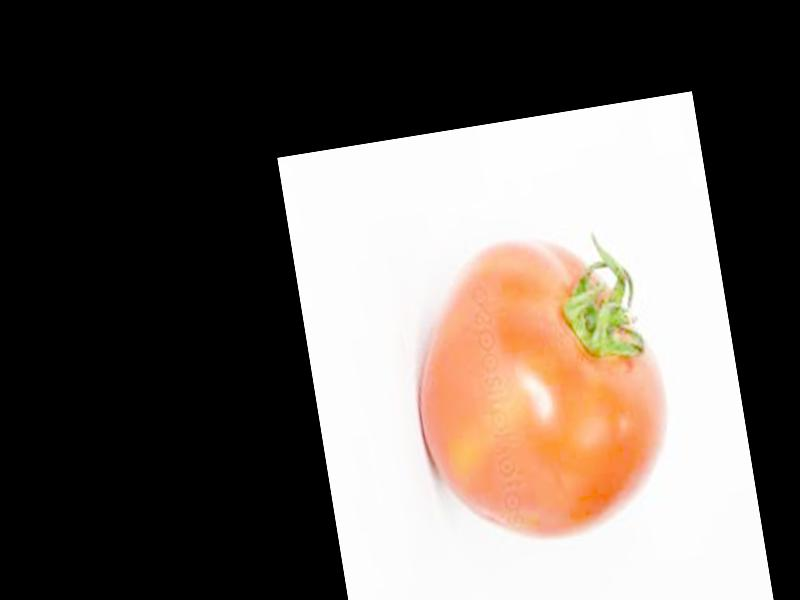Tomato: (396, 220, 688, 555)
